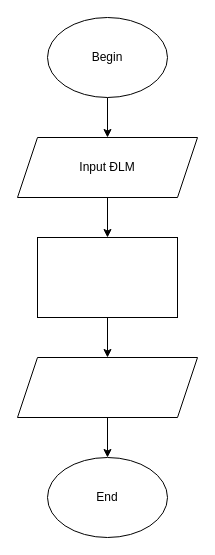
The diagram is 215 pixels wide and 555 high, and some of its shapes have lost their labels. Each missing label, with the box of its shape:
Output VND: (16, 356, 198, 418)
VND = ĐLM * 22.000: (36, 236, 178, 318)
